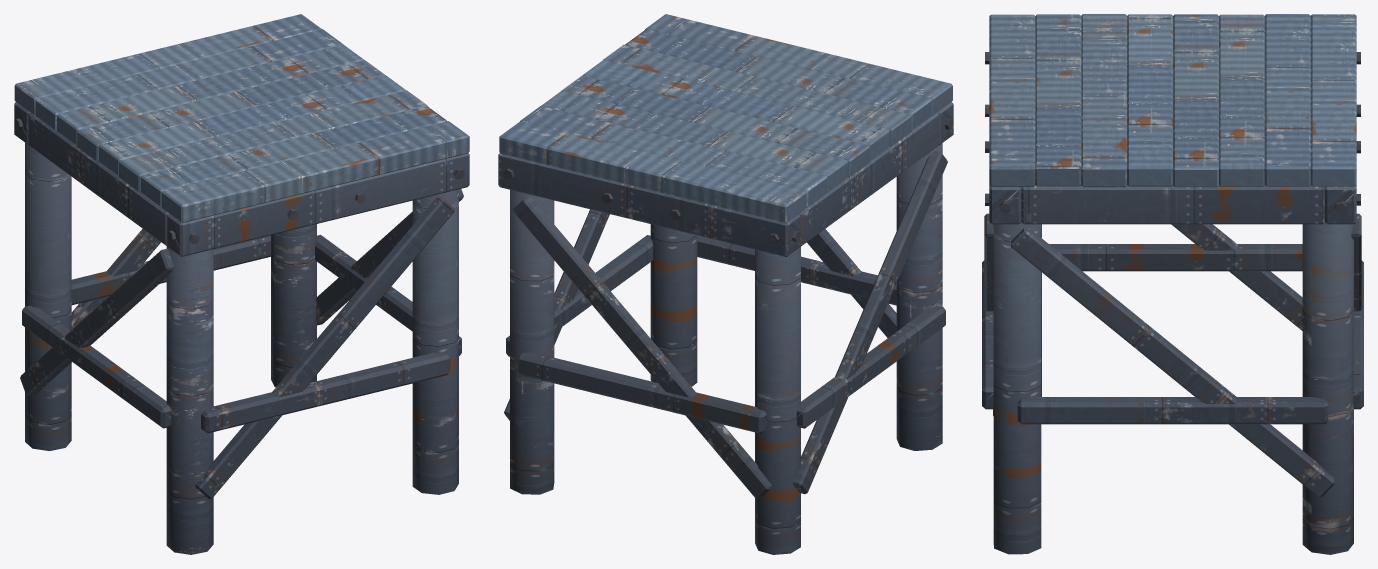
File: kazik_temel.glb
3 views of the same model, side by side, from view 1: azimuth 30°, elevation 25°; view 2: azimuth 150°, elevation 25°; view 3: azimuth 270°, elevation 25° (orthographic). The views are drawn at different scales.
Parts seen in each view (by area): view 1: kazik_temel; view 2: kazik_temel; view 3: kazik_temel.
Boxes of the visible parts, x1=… form: kazik_temel: x1=14, y1=14, x2=469, y2=554; kazik_temel: x1=498, y1=14, x2=953, y2=554; kazik_temel: x1=982, y1=14, x2=1363, y2=554.
Size of the model in its own units: 3.12 by 3.5 by 3.12.
Materials: 1 (1 with a texture image).
